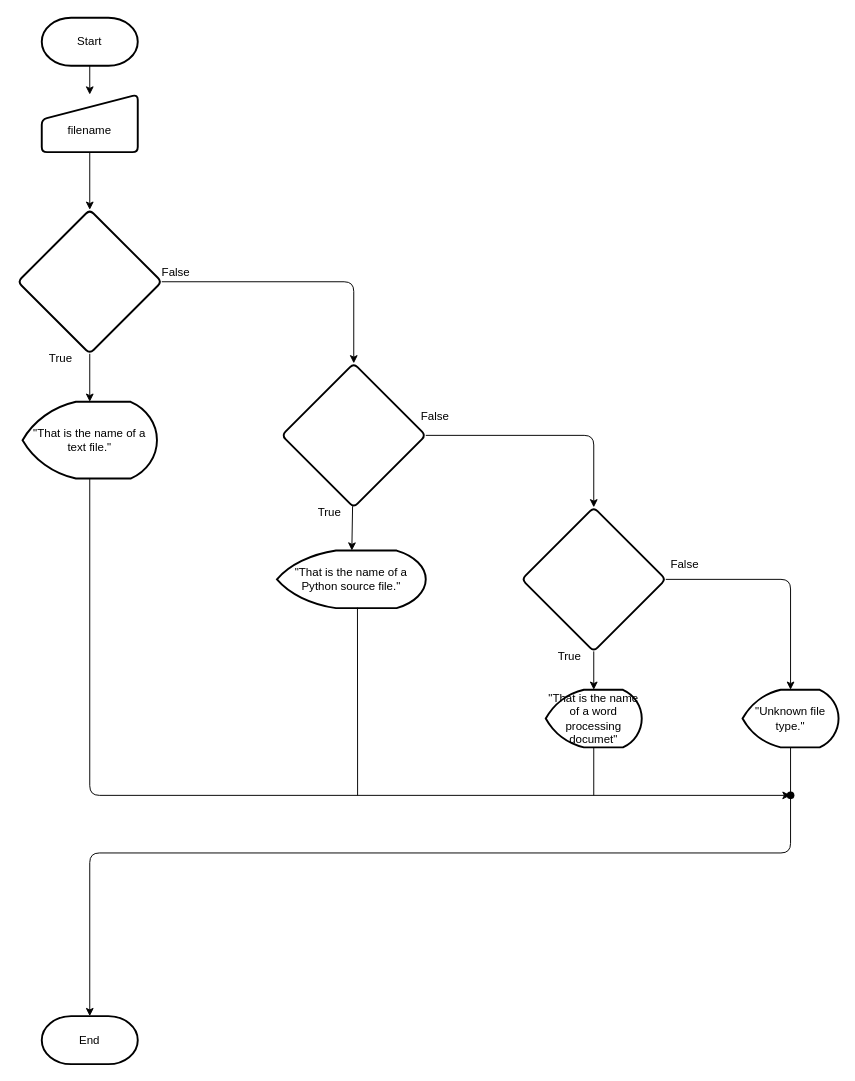
Image size: 855x1081. Some labels were removed from this diagram. Here are the shapes that lost their labels. From the top down, the centre of each, then its label:
the point at 89,281: filename.endswith(".txt")
the point at 353,435: filename.endswith(".py")
the point at 593,579: filename.endswith(".doc")
